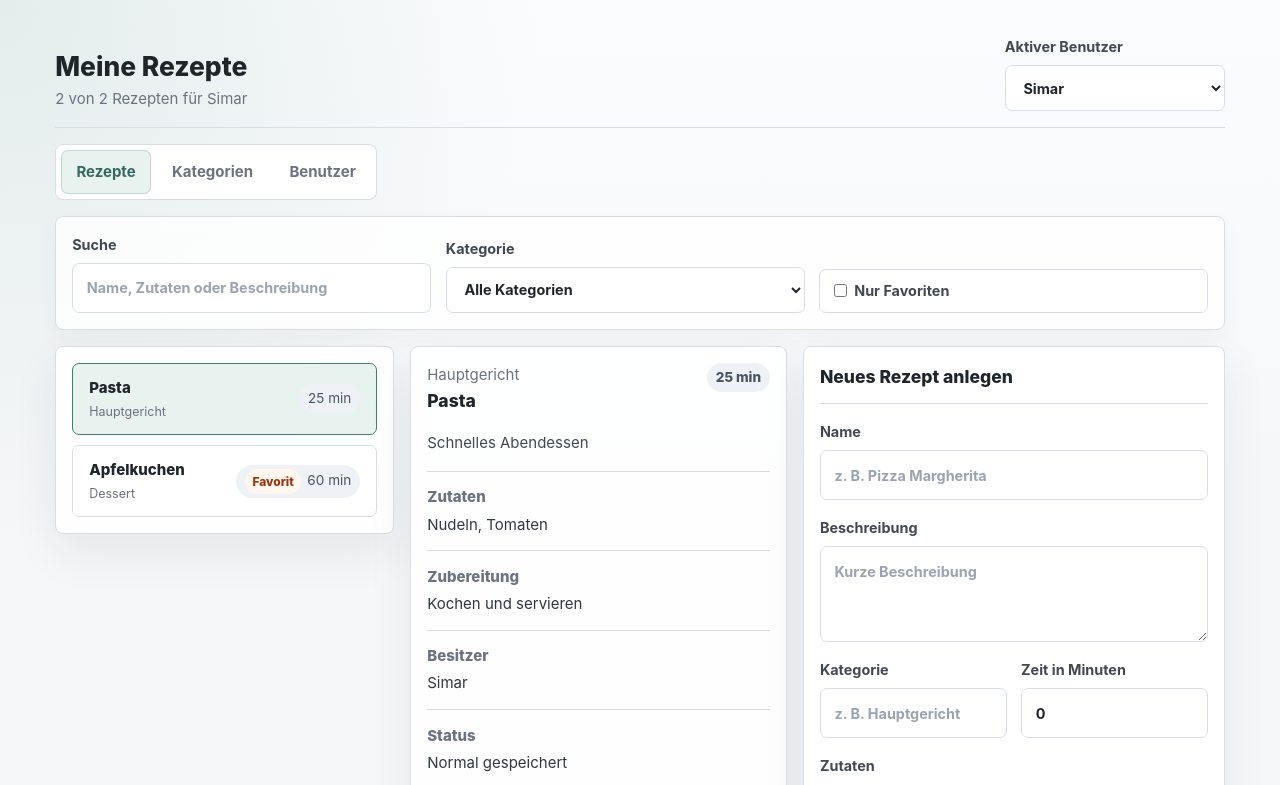
Test: RecipeList › creates a category in the category section
This screenshot has width=1280, height=785.
Click the button "Kategorien": (212, 172) [157, 150, 268, 194]
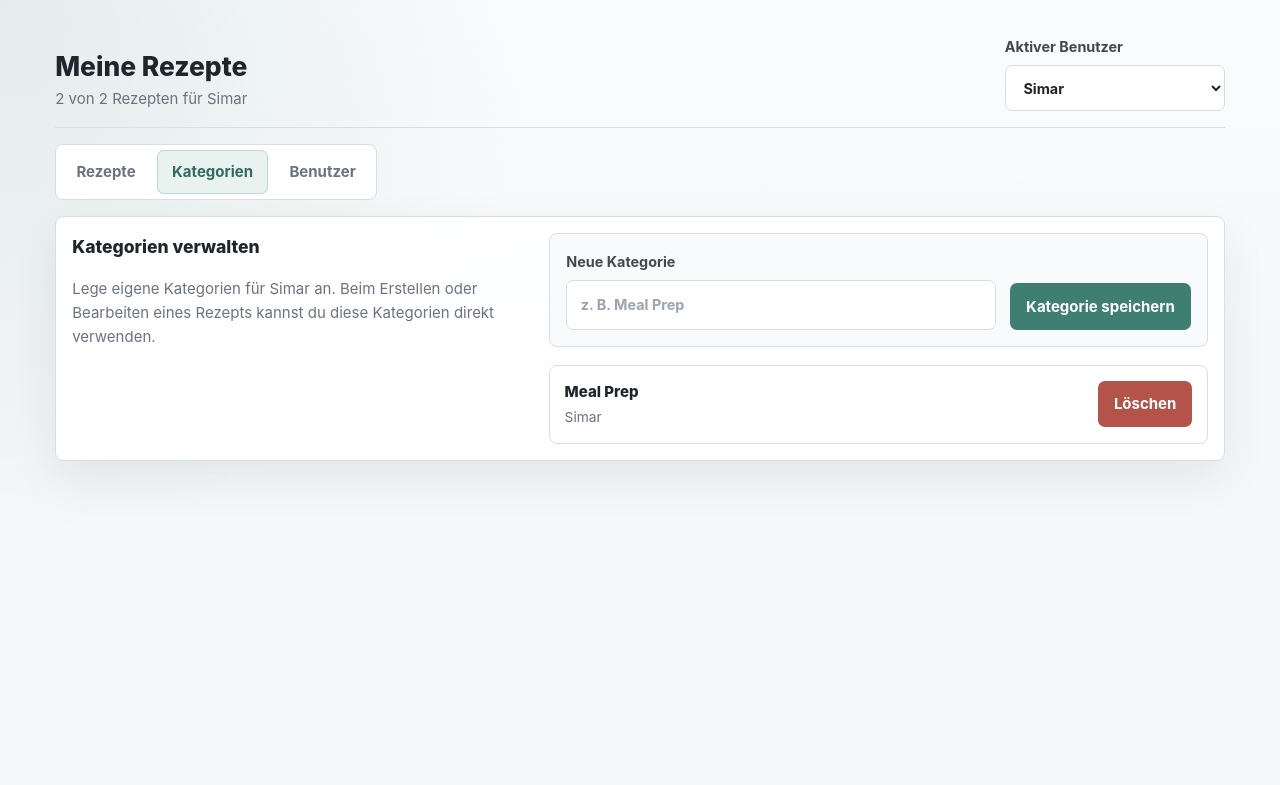
In the field with placeholder "z. B. Meal Prep": (781, 305) [566, 280, 996, 330], type "Frühstück"
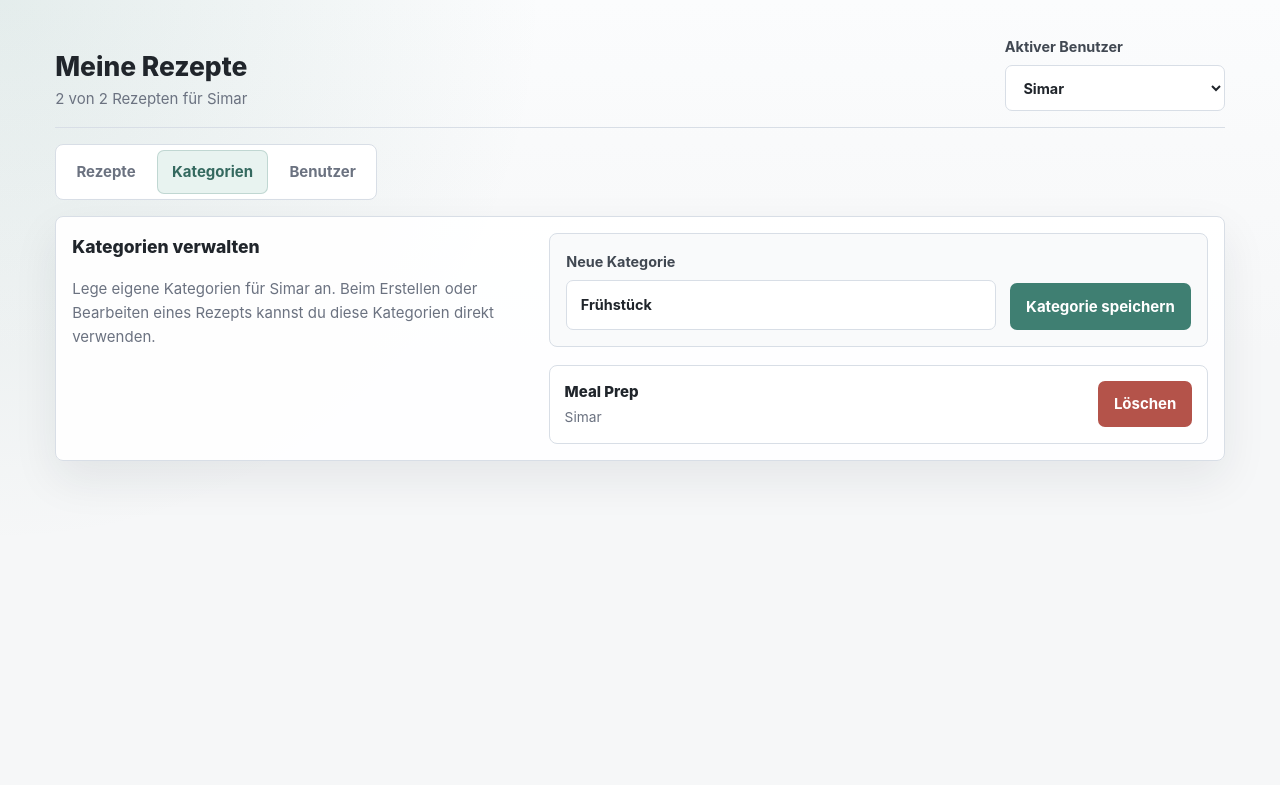
Submit the form with class "category-form", box [549, 232, 1208, 347]
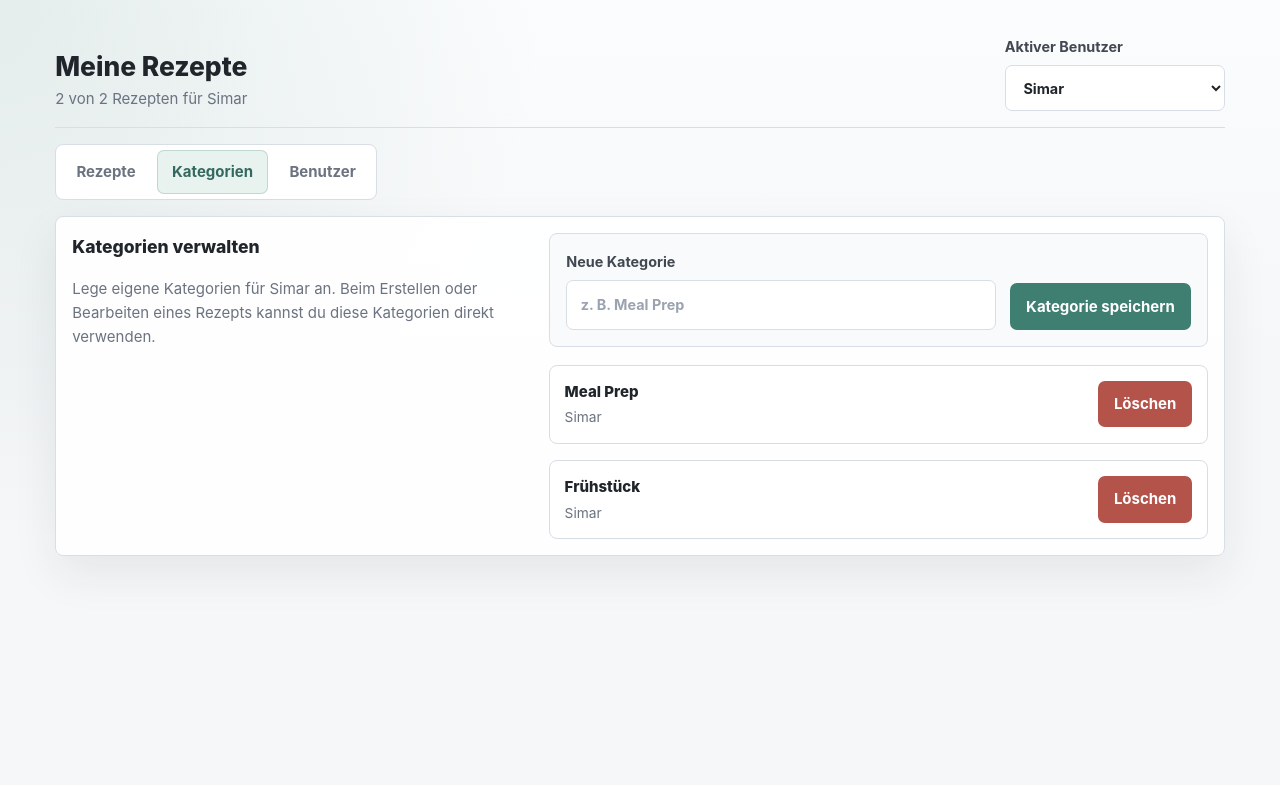
Expected: the text "Frühstück" is shown, [565, 475, 640, 499]
